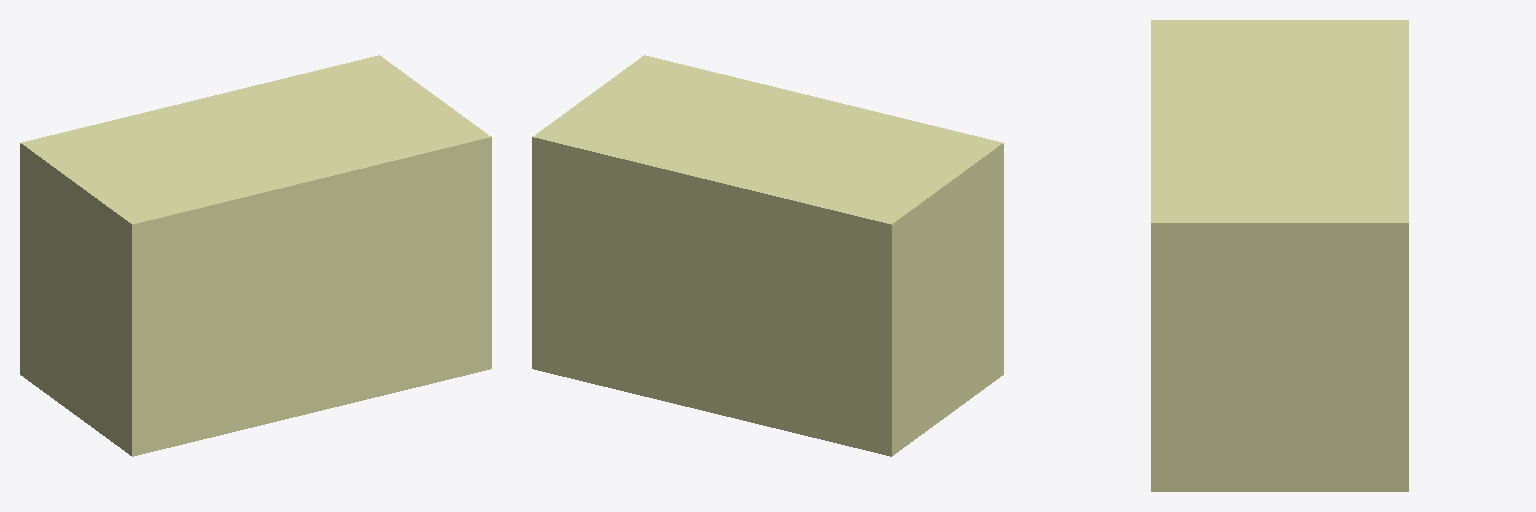
robot.urdf — box.urdf:
<?xml version="1.0" ?>
<robot name="box.urdf">
  <link name="baseLink">
    <contact>
      <lateral_friction value="1.0"/>
      <rolling_friction value="0.0001"/>
      <inertia_scaling value="3.0"/>
    </contact>
    <inertial>
      <origin rpy="0 0 0" xyz="0 0 0"/>
       <mass value="0.1"/>
       <inertia ixx="1" ixy="0" ixz="0" iyy="1" iyz="0" izz="1"/>
    </inertial>
    <visual>
      <origin rpy="0 0 0" xyz="0 0 0"/>
      <geometry>
        <!-- <box size="0.319 0.172 0.19699999999999998"/> -->
        <mesh filename="box/box.obj" scale="0.319 0.172 0.19699999999999998"/>
      </geometry>
      <material name="white">
        <color rgba="0.9 0.9 0.7 1"/>
      </material>
    </visual>
    <collision>
      <origin rpy="0 0 0" xyz="0 0 0"/>
      <geometry>
        <mesh filename="box/box.obj" scale="0.319 0.172 0.19699999999999998"/>
	 	    <!-- <box size="0.319 0.172 0.19699999999999998"/> -->
      </geometry>
    </collision>
  </link>
</robot>

--- Facts derived from the render (not from the file) ---
3 views of the same robot in one strip: view 1: azimuth 30°, elevation 25°; view 2: azimuth 150°, elevation 25°; view 3: azimuth 270°, elevation 25° (orthographic).
Model box.urdf with 1 links and 0 joints (none), rooted at baseLink, posed all joints at 0.
Links seen in each view (by area): view 1: baseLink; view 2: baseLink; view 3: baseLink.
Boxes of the visible links, bbox=[...] form: baseLink: bbox=[20, 55, 491, 456]; baseLink: bbox=[532, 55, 1003, 456]; baseLink: bbox=[1151, 20, 1408, 491].
Bounding box of the posed robot: 0.319 × 0.172 × 0.197 m (x, y, z).
1 mesh visuals loaded from 1 distinct referenced files (1 OBJ).
